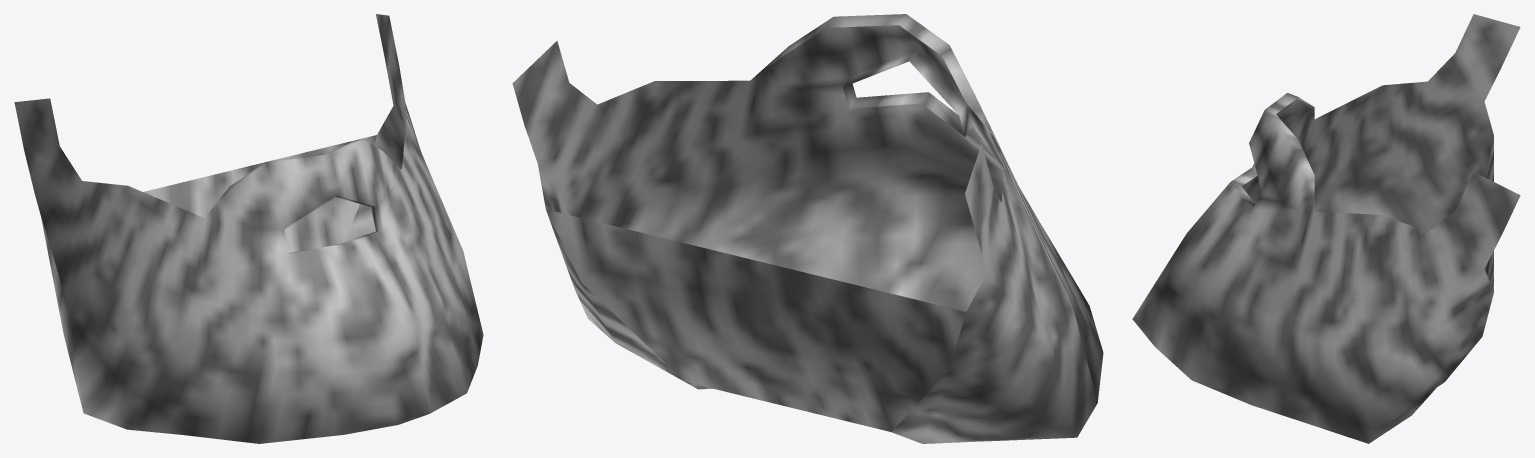
File: FakeBeard_Bob_Beard_LongScruffy.fbx
The picture shows the model from 3 angles, left to right: view 1: azimuth 30°, elevation 25°; view 2: azimuth 150°, elevation 25°; view 3: azimuth 270°, elevation 25°; orthographic projection. The views are drawn at different scales.
Visible parts, largest first — view 1: BoxOfJars003; view 2: BoxOfJars003; view 3: BoxOfJars003.
Part boxes in pixels (box(x1,y1,x2,y2)): BoxOfJars003: box(14, 14, 483, 443); BoxOfJars003: box(512, 14, 1103, 443); BoxOfJars003: box(1132, 14, 1520, 443).
Bounding box in the file's own units: 11.97 × 8.43 × 10.79.
